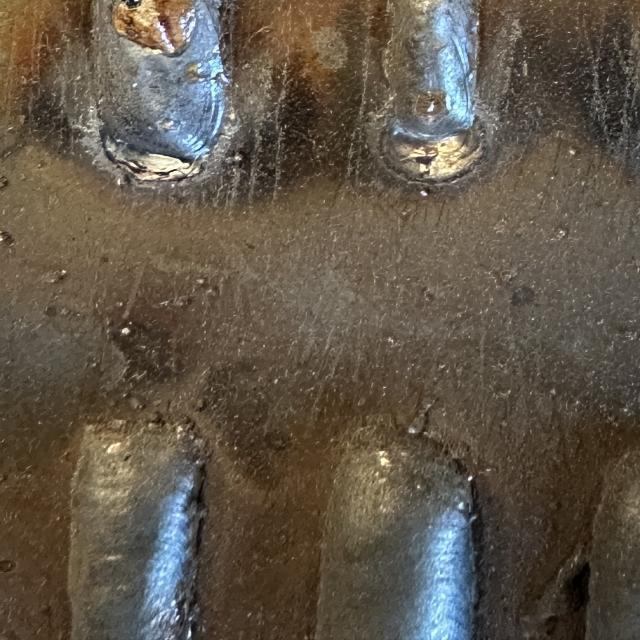Excess Reinforcement: (103, 138, 202, 181), (175, 555, 198, 640), (187, 412, 212, 464), (407, 398, 435, 435), (467, 474, 482, 531), (193, 498, 208, 552), (193, 466, 207, 518)
Spatters: (225, 152, 246, 166), (502, 270, 517, 285), (130, 396, 145, 410), (0, 560, 17, 572), (53, 270, 67, 284), (603, 414, 618, 426), (118, 326, 132, 336), (1, 175, 10, 190), (566, 148, 580, 156), (195, 399, 205, 410), (197, 278, 207, 285), (420, 189, 430, 196)
